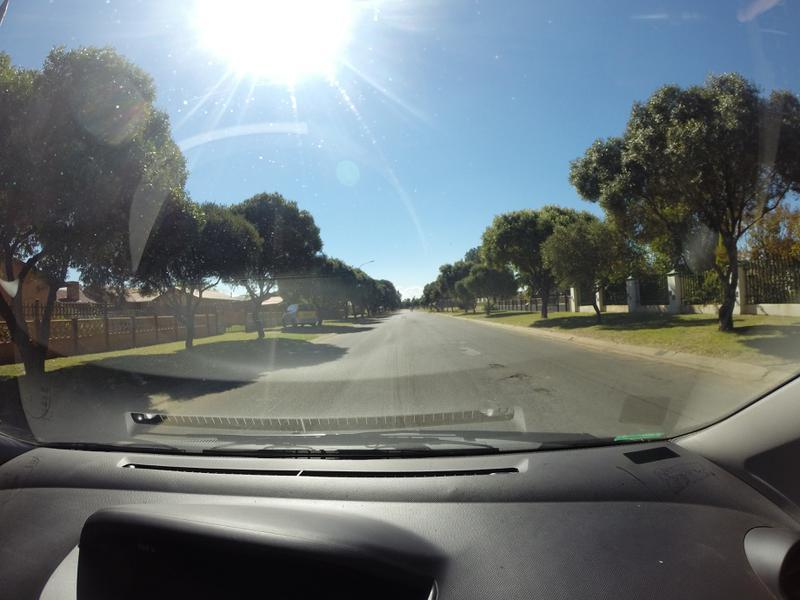pothole: (535, 385, 559, 394), (489, 360, 513, 368), (506, 373, 531, 379)
